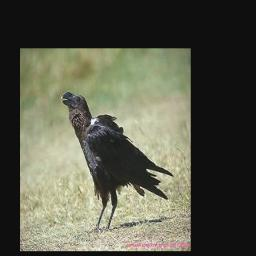Crow: (60, 90, 174, 231)
